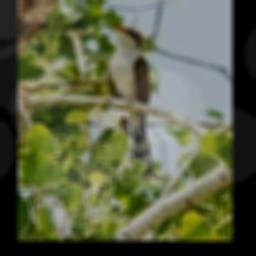Cuckoo: (106, 24, 154, 181)
